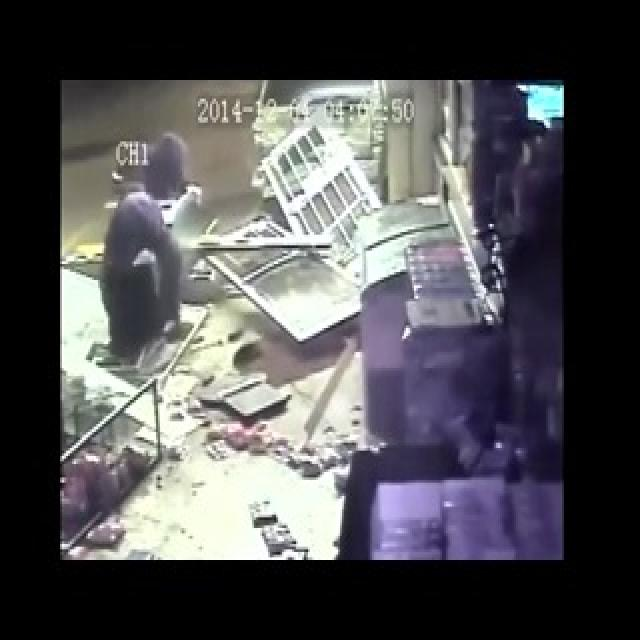thief: (116, 122, 182, 369)
